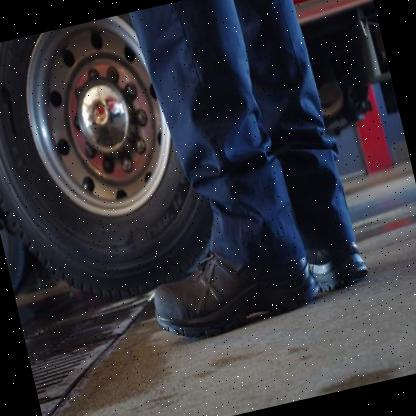bota: (141, 224, 330, 352)
